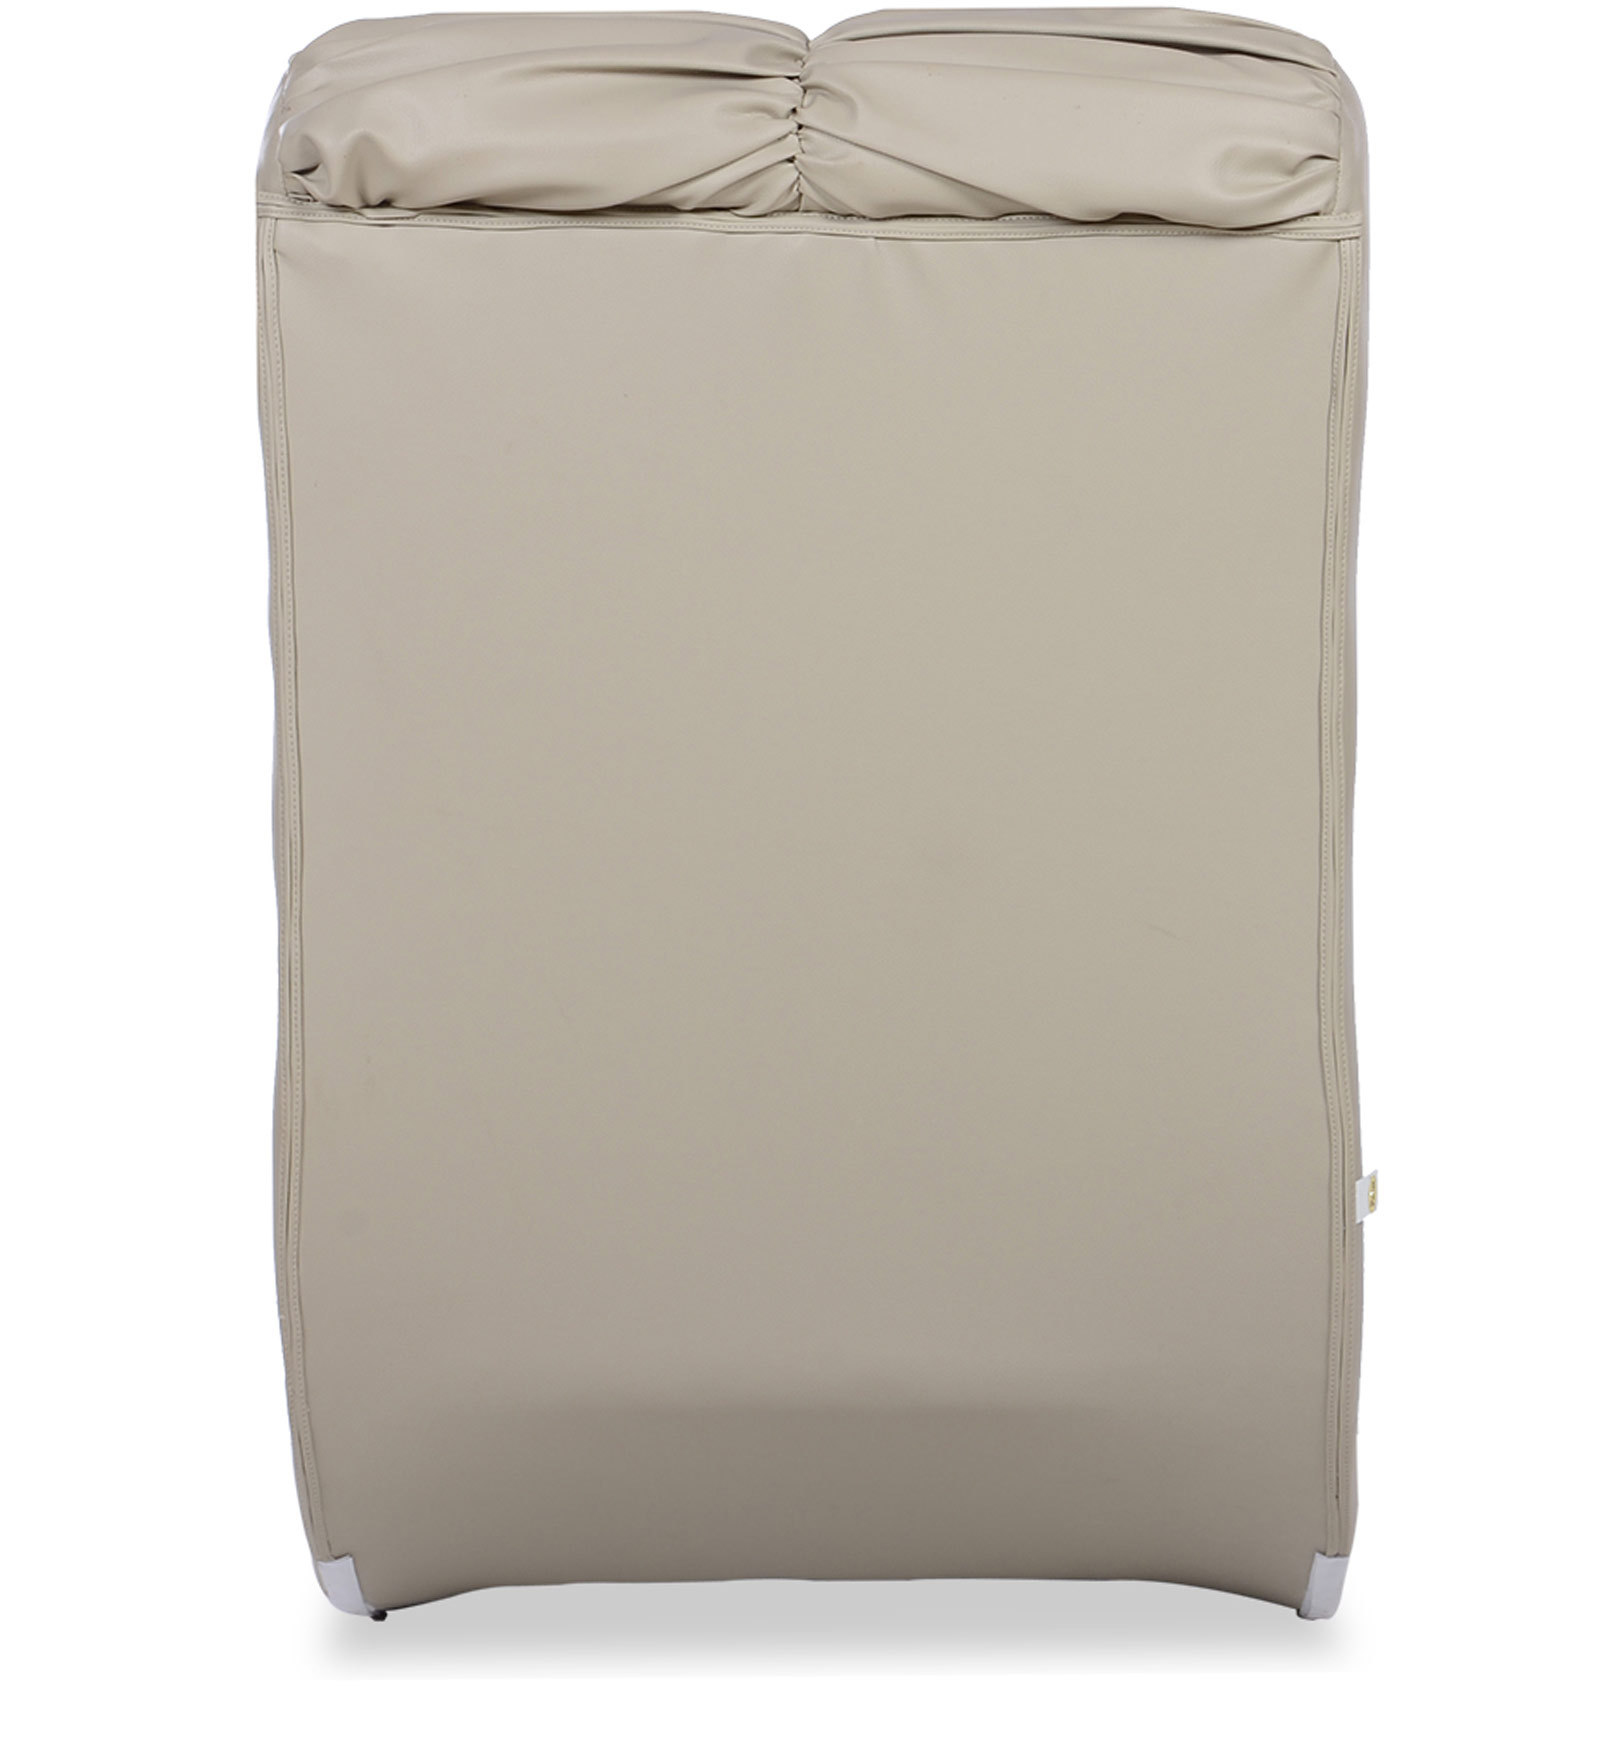Low Seat Rocking Chair in Beige Leatherette by Durian: (247, 12, 1378, 1627)
